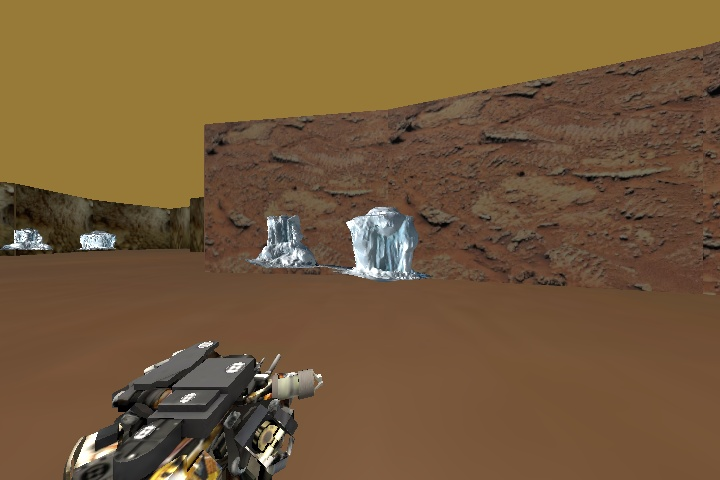minerals: (345, 211, 415, 282), (253, 213, 319, 270), (6, 227, 55, 252), (78, 232, 116, 254)
